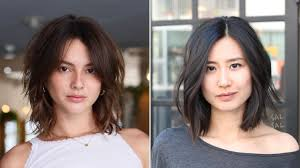face: (198, 53, 252, 110), (55, 55, 98, 108)
